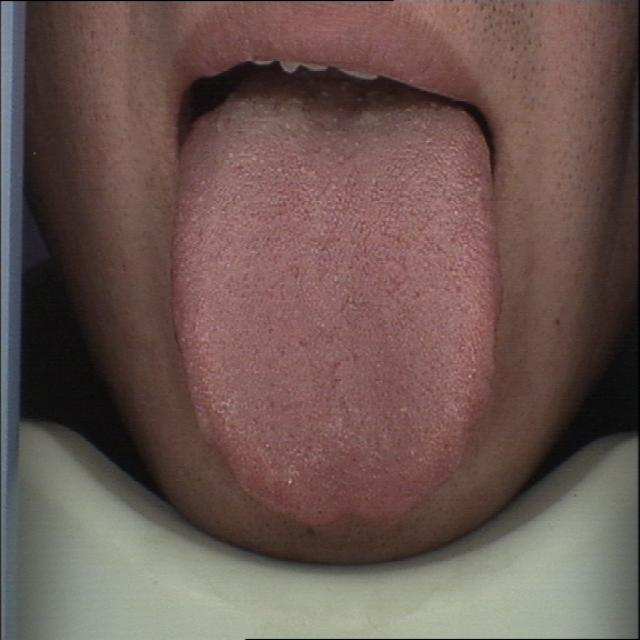tongue: (160, 96, 504, 540)
